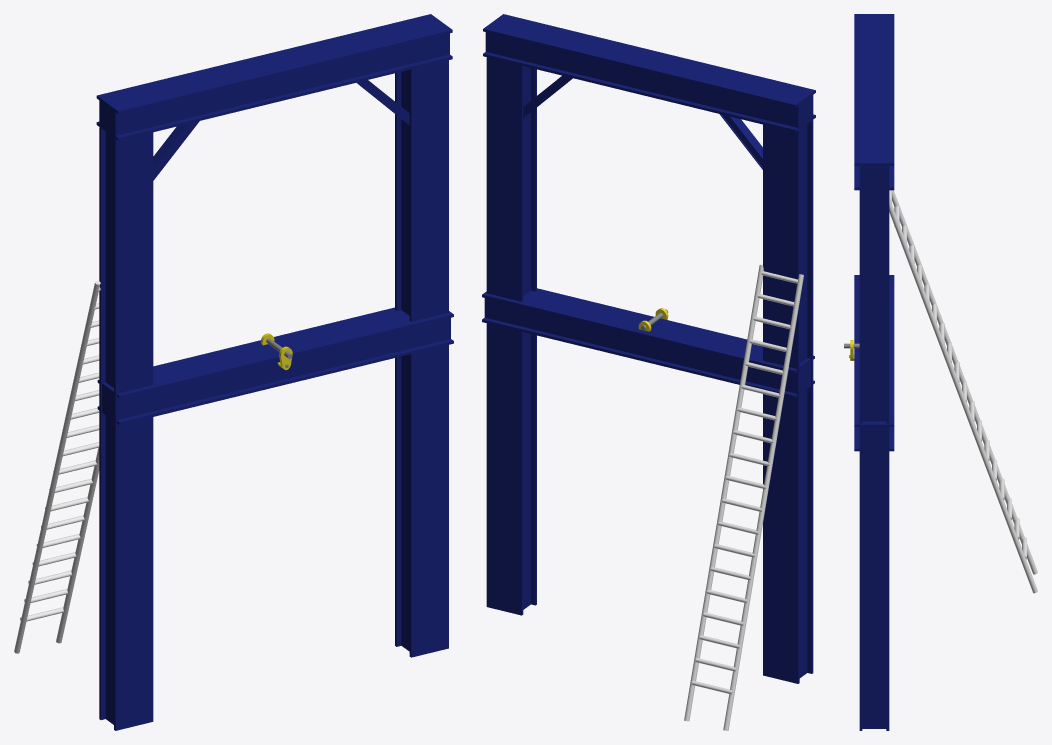
File: torre-2.fbx
3 renders of one model, left to right at view 1: azimuth 30°, elevation 25°; view 2: azimuth 150°, elevation 25°; view 3: azimuth 270°, elevation 25°, orthographic. The views are drawn at different scales.
Visible parts, largest first — view 1: Cube, Cylinder; view 2: Cube, Cylinder; view 3: Cube, Cylinder.
Part boxes in pixels (bbox=[...]): Cube: bbox=[96, 14, 453, 730]; Cylinder: bbox=[14, 280, 100, 653]; Cube: bbox=[482, 14, 815, 683]; Cylinder: bbox=[684, 264, 803, 730]; Cube: bbox=[854, 14, 894, 730]; Cylinder: bbox=[889, 190, 1037, 593].
Bounding box in the file's own units: 1507 × 2628 × 812.
